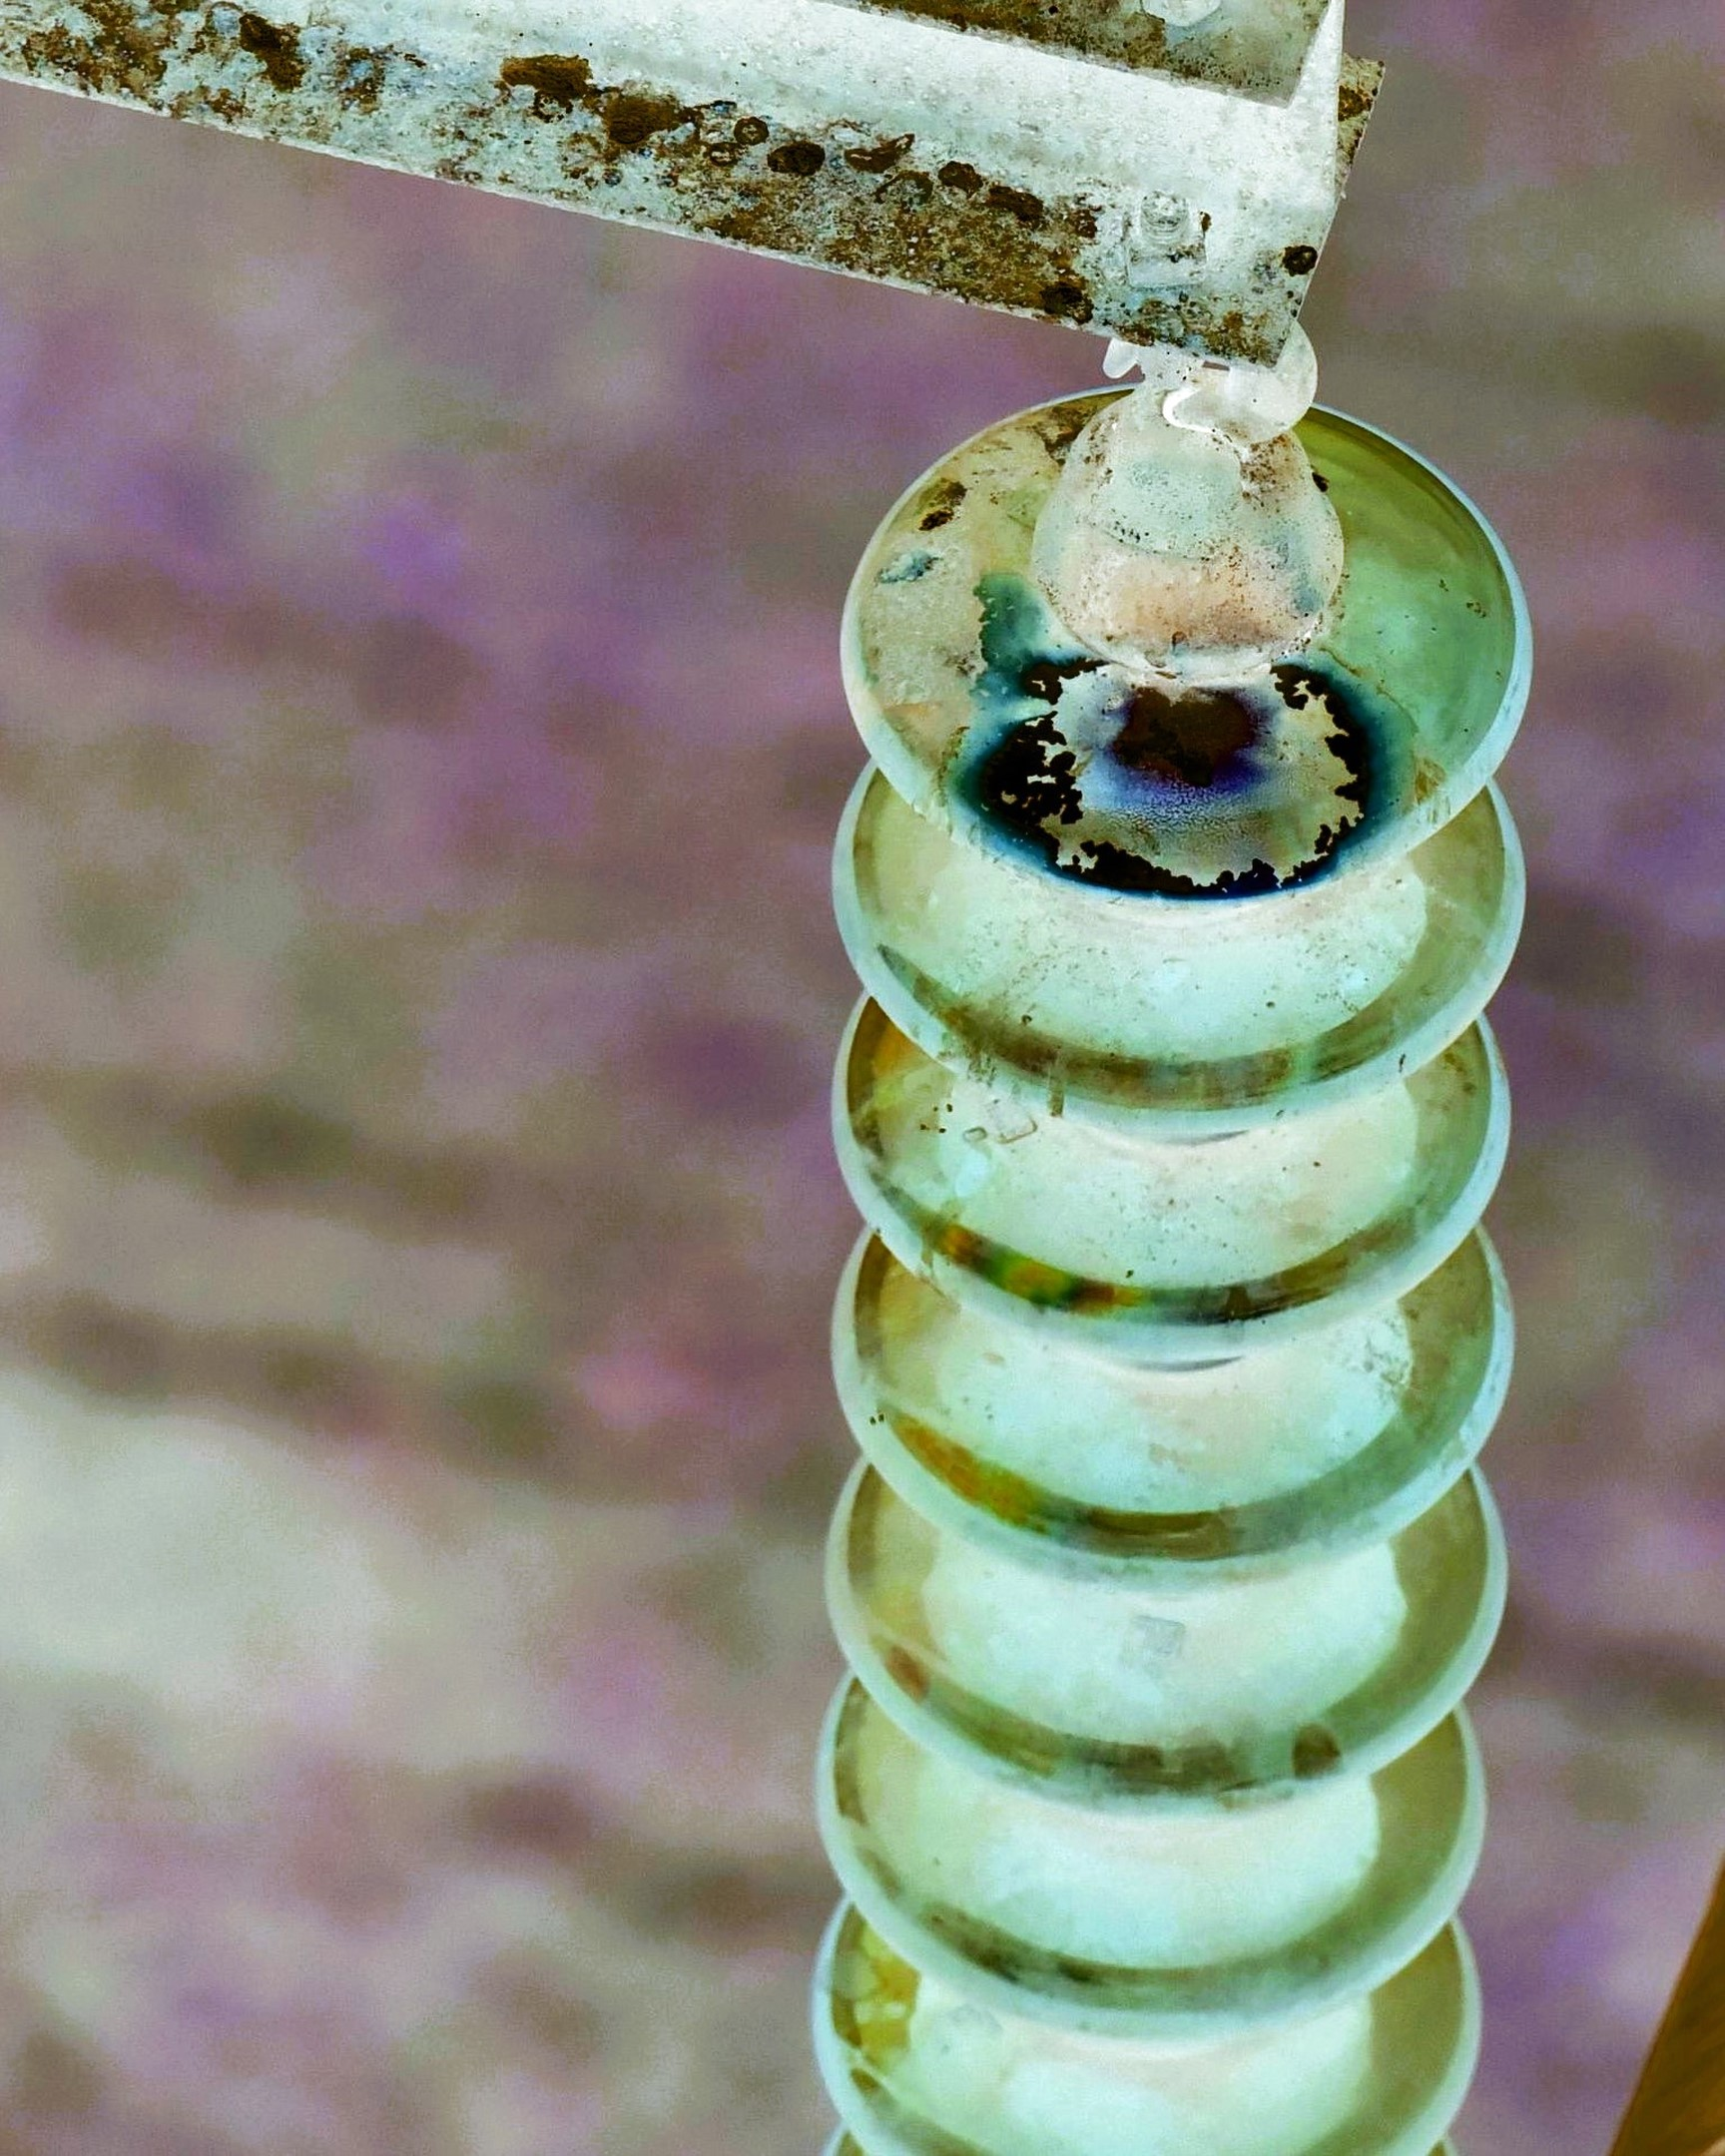Insulator flashover: (794, 352, 1551, 920)
